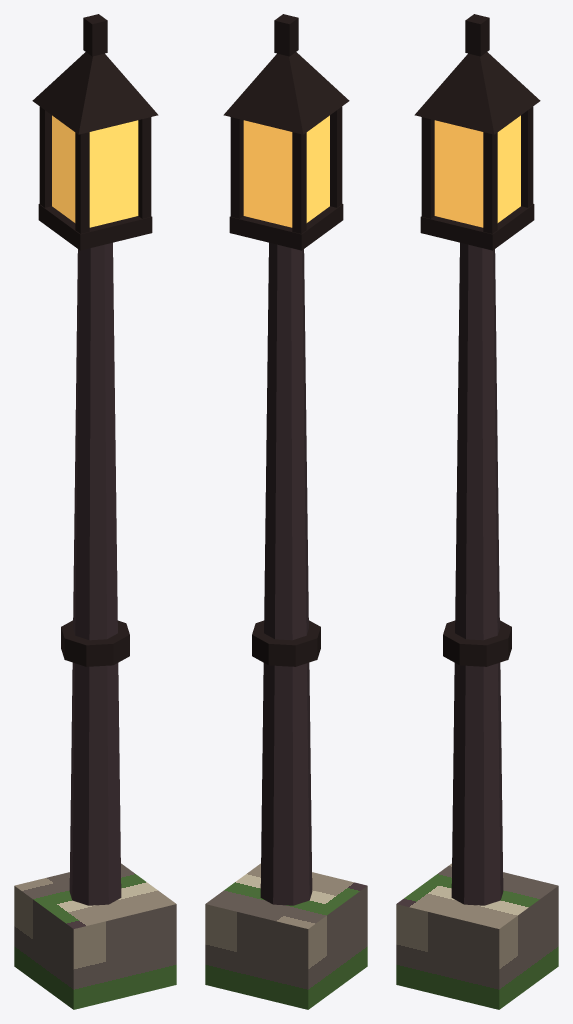
File: lamp_post.glb
The picture shows the model from 3 angles, left to right: view 1: azimuth 30°, elevation 25°; view 2: azimuth 150°, elevation 25°; view 3: azimuth 330°, elevation 25°; orthographic projection.
Parts seen in each view (by area): view 1: lamp_post; view 2: lamp_post; view 3: lamp_post.
Boxes of the visible parts, x1,y1,x2,y2 form: lamp_post: (14, 14, 176, 1009); lamp_post: (205, 14, 367, 1009); lamp_post: (396, 14, 558, 1009).
Bounding box in the file's own units: 0.4 × 3.55 × 0.4.
Materials: 3 (1 with a texture image).
